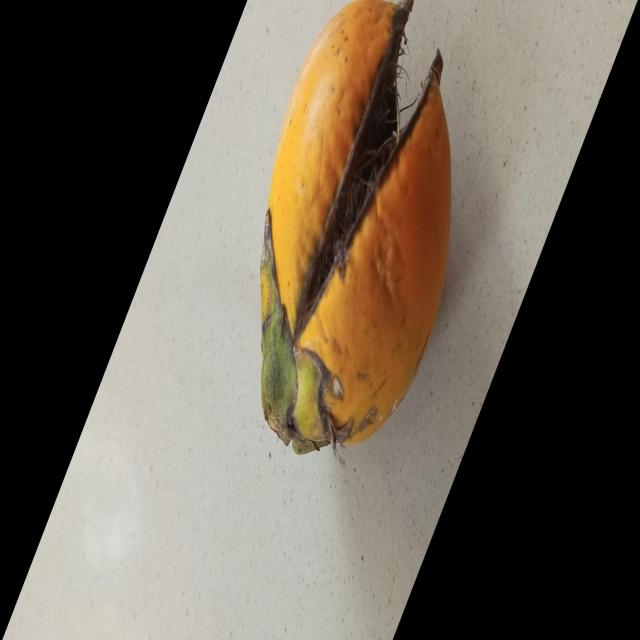damaged: (264, 0, 448, 450)
